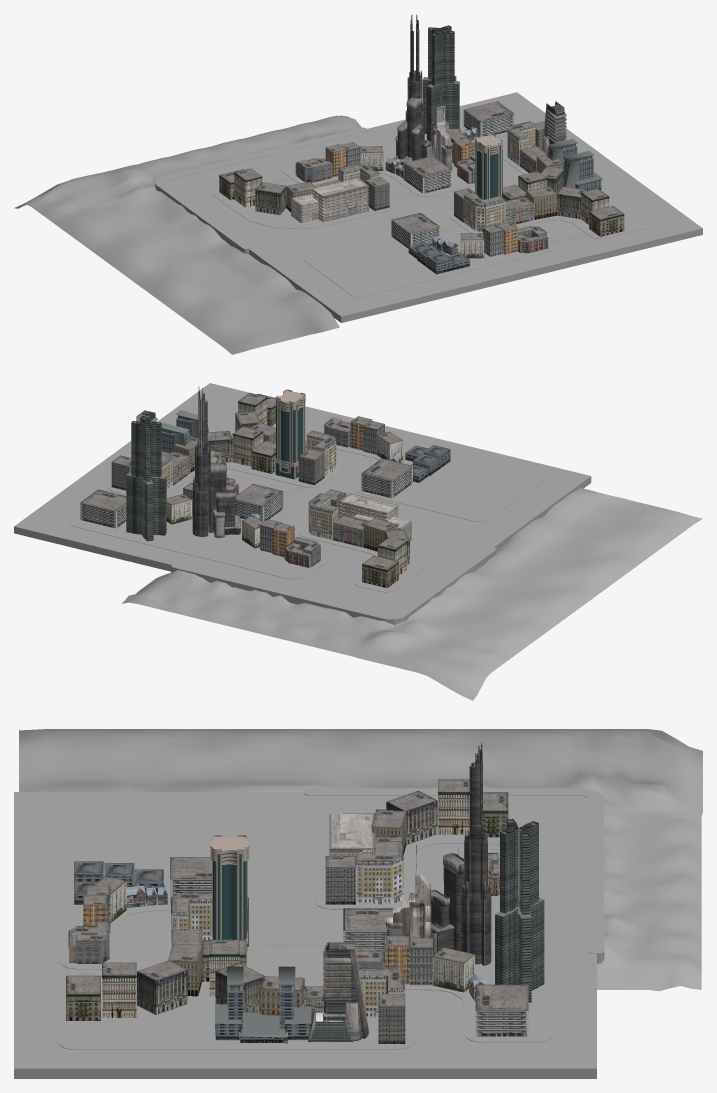
Rendered from City.fbx.
3 renders of one model, top to bottom at view 1: azimuth 30°, elevation 25°; view 2: azimuth 150°, elevation 25°; view 3: azimuth 270°, elevation 25°, orthographic. The views are drawn at different scales.
Visible parts, largest first — view 1: Beach, Street, City_Grp, The_City_bldgs1, Sidewalk, Beach_Sidewalk, Building_Hero, Street_Stripes, Crossing_Stripes; view 2: Beach, Street, City_Grp, Sidewalk, The_City_bldgs1, Beach_Sidewalk, Building_Hero, Street_Stripes, Crossing_Stripes; view 3: Street, Beach, City_Grp, The_City_bldgs1, Sidewalk, Beach_Sidewalk, Building_Hero, Street_Stripes, Crossing_Stripes.
Boxes of the visible parts, x1,y1,x2,y2 form: Beach: (14,115,361,354); Street: (165,92,702,322); City_Grp: (219,101,624,258); The_City_bldgs1: (291,14,602,274); Sidewalk: (211,118,660,298); Beach_Sidewalk: (155,127,368,253); Building_Hero: (474,133,502,199); Street_Stripes: (182,96,689,312); Crossing_Stripes: (266,177,587,244); Beach: (122,488,702,700); Street: (14,383,591,614); City_Grp: (80,393,412,587); Sidewalk: (69,401,544,592); The_City_bldgs1: (126,386,450,541); Beach_Sidewalk: (171,546,496,624); Building_Hero: (275,389,305,479); Street_Stripes: (22,389,585,609); Crossing_Stripes: (121,428,370,578); Street: (14,792,596,1078); Beach: (19,729,702,991); City_Grp: (66,779,528,1043); The_City_bldgs1: (74,742,544,1044); Sidewalk: (57,813,553,1049); Beach_Sidewalk: (303,788,604,963); Building_Hero: (210,834,249,963); Street_Stripes: (14,792,582,1066); Crossing_Stripes: (80,844,499,1034).
Size of the model in its own units: 29359 by 9886 by 23822.
Materials: 10 (2 with a texture image).
